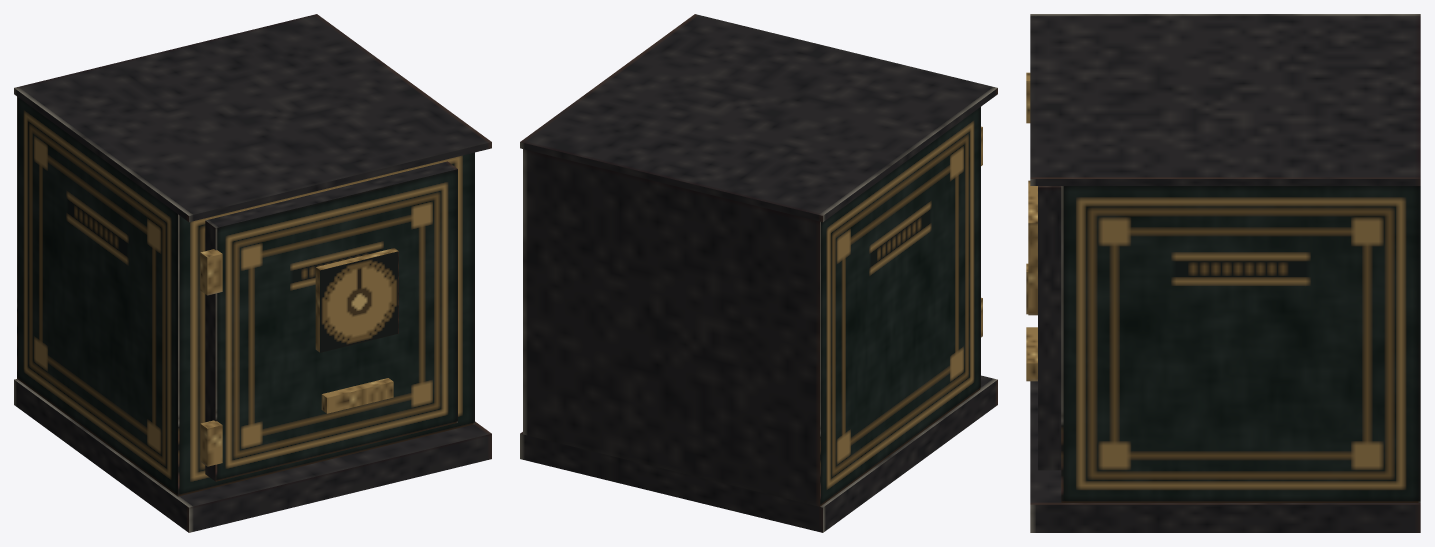
Rendered from Story_Safe.fbx.
3 renders of one model, left to right at view 1: azimuth 30°, elevation 25°; view 2: azimuth 150°, elevation 25°; view 3: azimuth 270°, elevation 25°, orthographic. The views are drawn at different scales.
Visible parts, largest first — view 1: Story_Safe; view 2: Story_Safe; view 3: Story_Safe.
Part boxes in pixels (left/top/right/bottom): Story_Safe: left=14, top=14, right=491, bottom=532; Story_Safe: left=520, top=14, right=997, bottom=532; Story_Safe: left=1026, top=14, right=1420, bottom=532.
Bounding box in the file's own units: 1 × 1 × 1.01.
